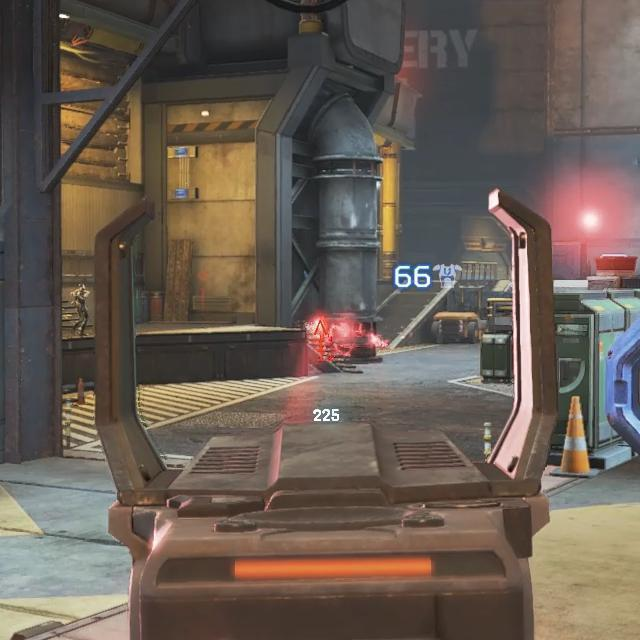avatar: (68, 280, 93, 335)
